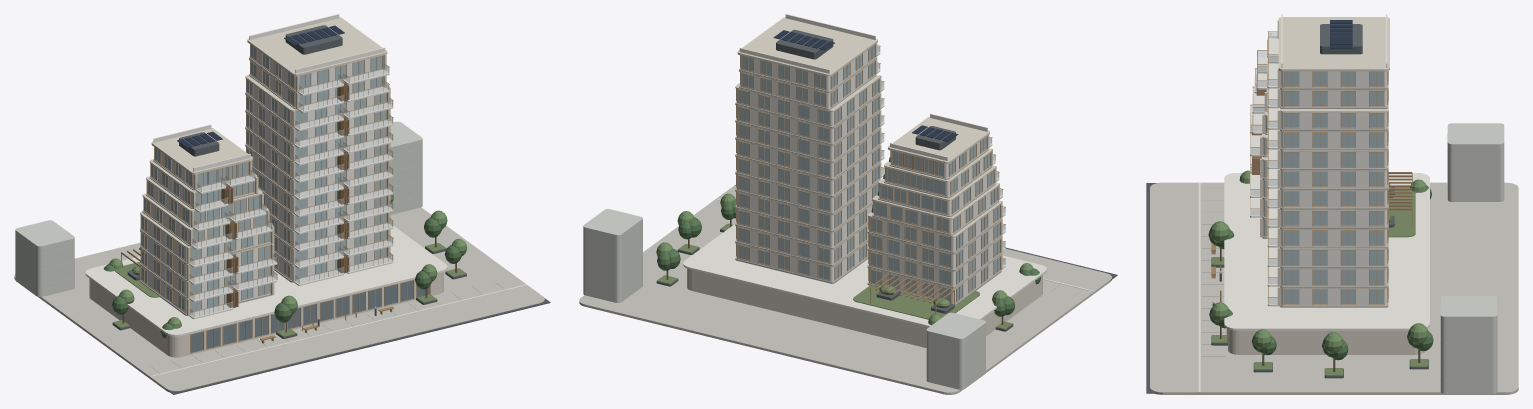
Rendered from lakeview_concept.glb.
The picture shows the model from 3 angles, left to right: view 1: azimuth 30°, elevation 25°; view 2: azimuth 150°, elevation 25°; view 3: azimuth 270°, elevation 25°; orthographic projection. The views are drawn at different scales.
Visible parts, largest first — view 1: Site_Context_Paving, Podium_Facade_Warm_Render, Site_Context_Context, Podium_Structure_Limestone, Podium_Windows_Glass_Dark, BuildingA_Roof_Limestone, BuildingB_Roof_Limestone, BuildingA_Floor_12_Facade_Warm_Render, BuildingA_Floor_10_Facade_Warm_Render, BuildingA_Floor_08_Facade_Warm_Render, BuildingA_Floor_06_Facade_Warm_Render, BuildingB_Floor_04_Facade_Warm_Render (+86 smaller); view 2: Site_Context_Paving, Site_Context_Context, Podium_Facade_Warm_Render, Podium_Structure_Limestone, BuildingA_Roof_Limestone, BuildingA_Floor_07_Facade_Warm_Render, BuildingA_Floor_06_Facade_Warm_Render, BuildingA_Floor_10_Facade_Warm_Render, BuildingA_Floor_08_Facade_Warm_Render, BuildingA_Floor_05_Facade_Warm_Render, BuildingA_Floor_09_Facade_Warm_Render, BuildingA_Floor_04_Facade_Warm_Render (+65 smaller); view 3: Site_Context_Paving, Podium_Facade_Warm_Render, Site_Context_Context, BuildingA_Roof_Limestone, Podium_Structure_Limestone, Site_Context_Leaves_Light, BuildingA_Floor_05_Facade_Warm_Render, BuildingA_Floor_10_Facade_Warm_Render, BuildingA_Floor_03_Facade_Warm_Render, BuildingA_Floor_08_Facade_Warm_Render, BuildingA_Floor_11_Facade_Warm_Render, BuildingA_Floor_01_Facade_Warm_Render (+44 smaller).
Boxes of the visible parts, x1,y1,x2,y2 form: Site_Context_Paving: (14, 207, 544, 392); Podium_Facade_Warm_Render: (85, 224, 447, 336); Site_Context_Context: (15, 121, 422, 296); Podium_Structure_Limestone: (89, 272, 443, 357); Podium_Windows_Glass_Dark: (191, 280, 429, 352); BuildingA_Roof_Limestone: (247, 17, 387, 76); BuildingB_Roof_Limestone: (151, 127, 252, 174); BuildingA_Floor_12_Facade_Warm_Render: (250, 45, 383, 90); BuildingA_Floor_10_Facade_Warm_Render: (247, 80, 386, 125); BuildingA_Floor_08_Facade_Warm_Render: (247, 114, 386, 160); BuildingA_Floor_06_Facade_Warm_Render: (247, 149, 386, 194); BuildingB_Floor_04_Facade_Warm_Render: (141, 216, 270, 262); Site_Context_Paving: (579, 185, 1111, 394); Site_Context_Context: (583, 209, 985, 389); Podium_Facade_Warm_Render: (683, 224, 1046, 327); Podium_Structure_Limestone: (687, 268, 1042, 347); BuildingA_Roof_Limestone: (737, 17, 877, 76); BuildingA_Floor_07_Facade_Warm_Render: (736, 132, 878, 178); BuildingA_Floor_06_Facade_Warm_Render: (736, 149, 878, 195); BuildingA_Floor_10_Facade_Warm_Render: (736, 80, 878, 126); BuildingA_Floor_08_Facade_Warm_Render: (736, 115, 878, 160); BuildingA_Floor_05_Facade_Warm_Render: (736, 167, 878, 212); BuildingA_Floor_09_Facade_Warm_Render: (736, 98, 878, 143); BuildingA_Floor_04_Facade_Warm_Render: (736, 184, 878, 229); Site_Context_Paving: (1150, 182, 1518, 394); Podium_Facade_Warm_Render: (1224, 173, 1429, 330); Site_Context_Context: (1440, 123, 1504, 393); BuildingA_Roof_Limestone: (1278, 17, 1389, 71); Podium_Structure_Limestone: (1228, 329, 1425, 354); Site_Context_Leaves_Light: (1209, 170, 1428, 353); BuildingA_Floor_05_Facade_Warm_Render: (1281, 210, 1387, 227); BuildingA_Floor_10_Facade_Warm_Render: (1281, 112, 1387, 129); BuildingA_Floor_03_Facade_Warm_Render: (1281, 249, 1387, 266); BuildingA_Floor_08_Facade_Warm_Render: (1281, 151, 1387, 168); BuildingA_Floor_11_Facade_Warm_Render: (1281, 90, 1387, 107); BuildingA_Floor_01_Facade_Warm_Render: (1281, 288, 1387, 305).
Bounding box in the file's own units: 71 × 43.1 × 52.5.
